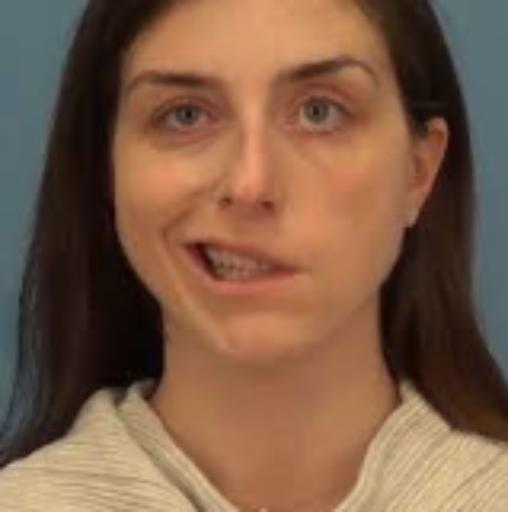left_eye: (289, 100, 358, 133)
left_lip_corner: (287, 257, 314, 285)
right_eye: (149, 103, 223, 135)
right_lip_corner: (175, 233, 202, 257)
